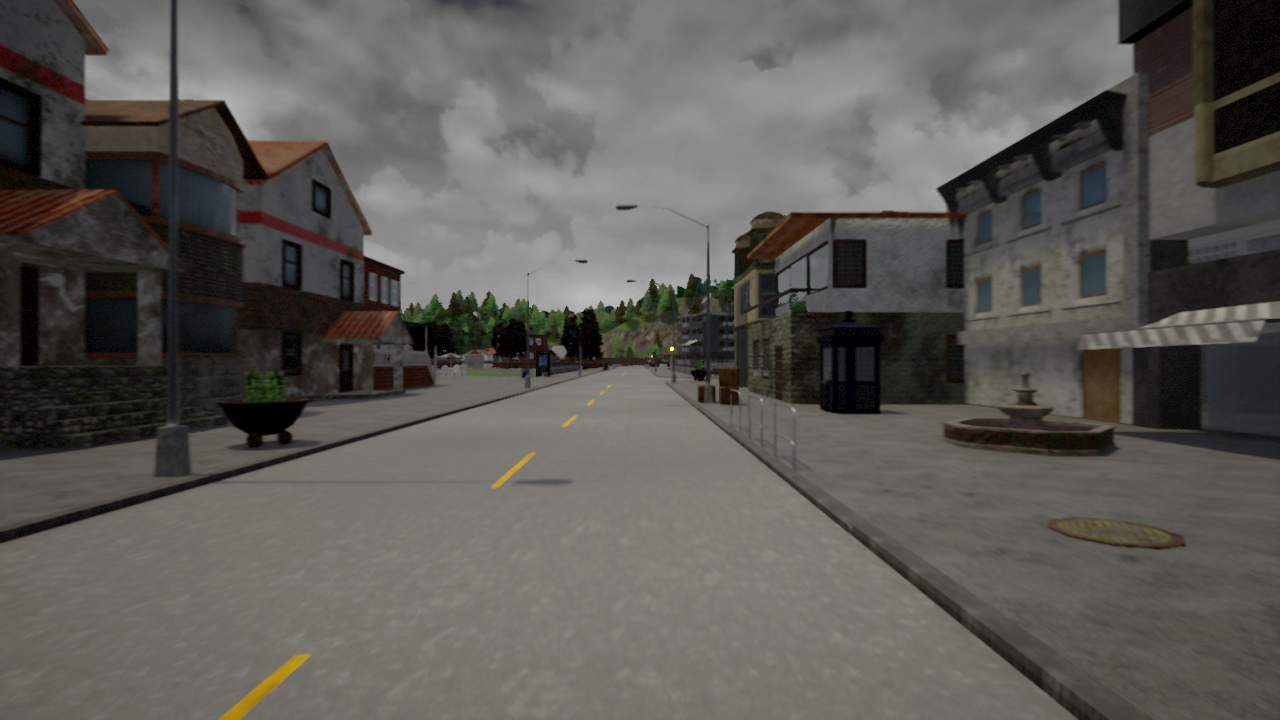yellow: (669, 341, 675, 355)
